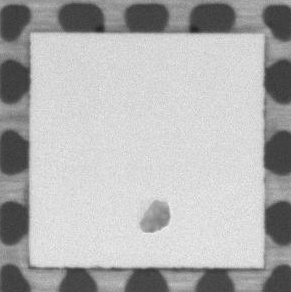DIE_INK: (136, 197, 170, 230)
